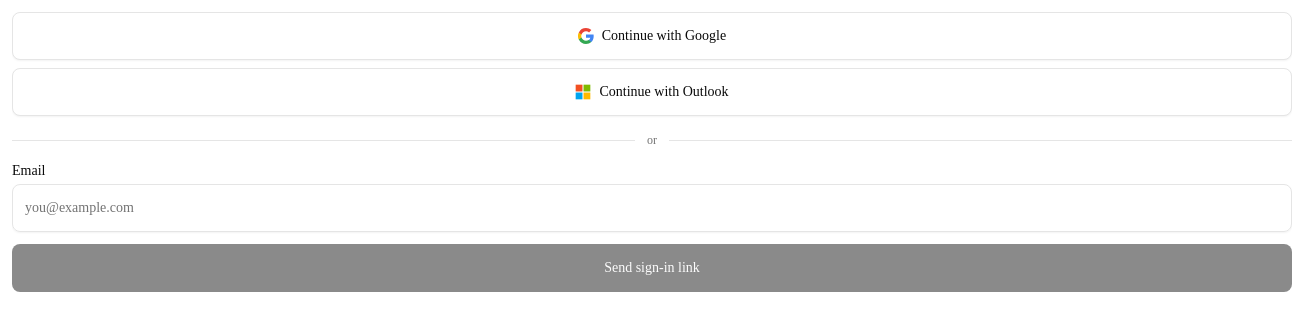
Test: email link › sends a link and confirms where it went
In the field labelled "Email": (652, 208) [12, 184, 1292, 232], type "ayo@example.com"
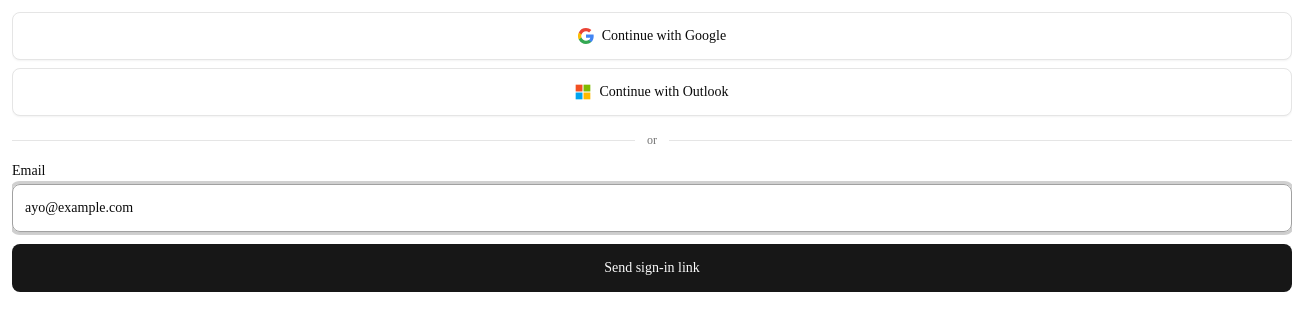
Click the button "Send sign-in link": (652, 268) [12, 244, 1292, 292]
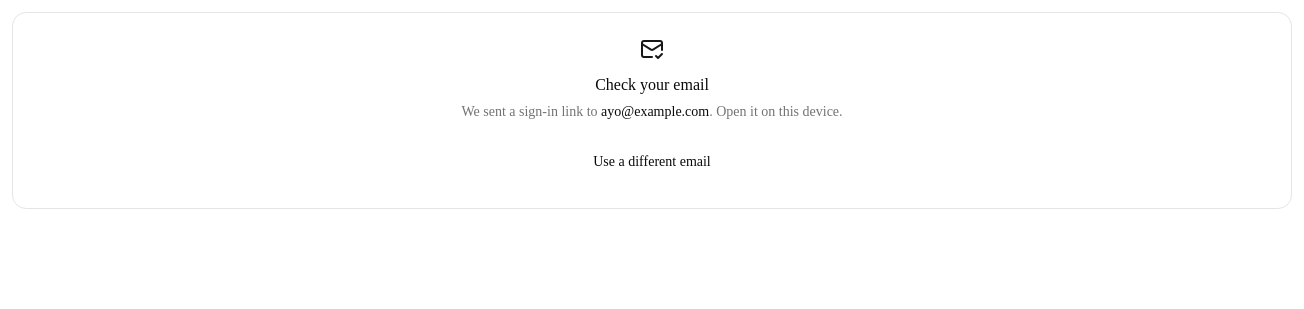
Expected: the heading "Check your email" is shown, [595, 76, 709, 93]
Expected: the text "ayo@example.com" is shown, [601, 104, 709, 119]
